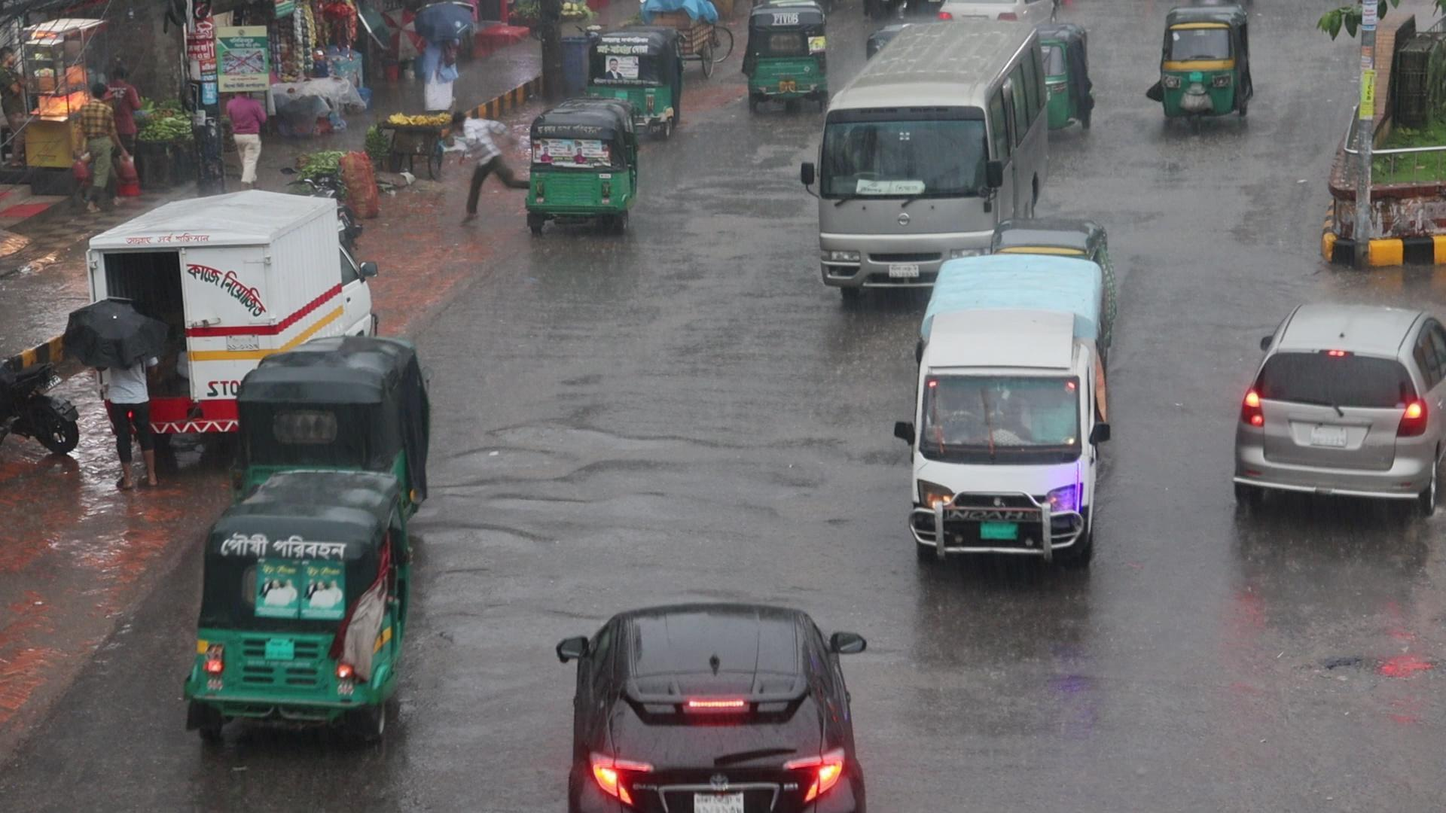Bus: (811, 12, 1046, 247)
Car: (534, 595, 877, 813), (1230, 294, 1446, 544)
Truck: (894, 250, 1116, 579)
